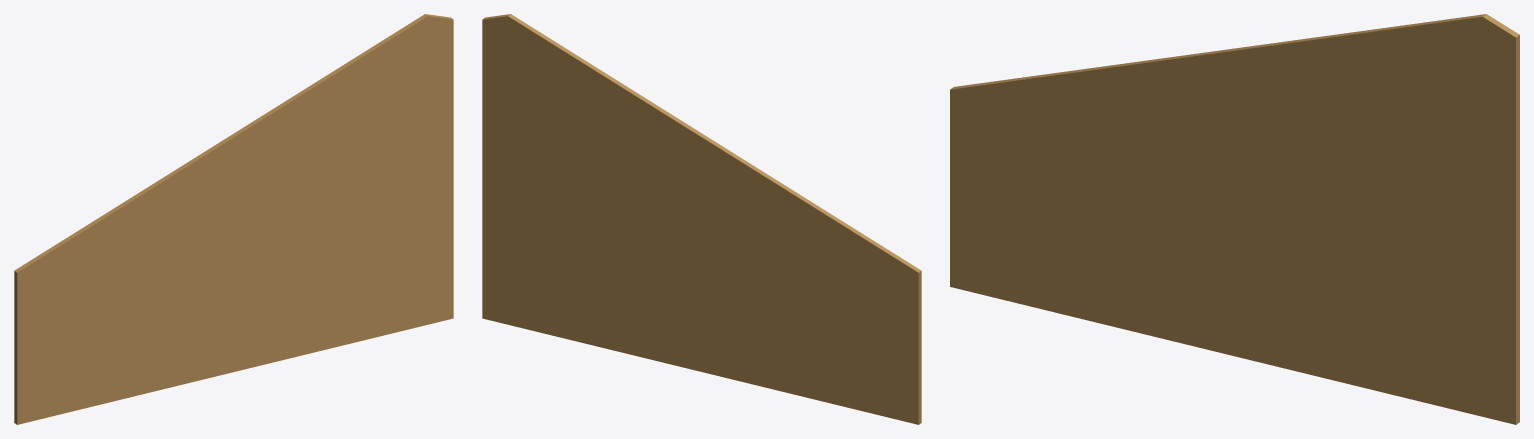
3 renders of one model, left to right at view 1: azimuth 30°, elevation 25°; view 2: azimuth 150°, elevation 25°; view 3: azimuth 330°, elevation 25°, orthographic. The views are drawn at different scales.
Visible parts, largest first — view 1: shape; view 2: shape; view 3: shape.
Boxes of the visible parts, <box> form: shape: <box>14,14,453,424</box>; shape: <box>482,14,921,424</box>; shape: <box>950,14,1519,424</box>.
Size of the model in its own units: 1.7 by 1.15 by 0.02.
